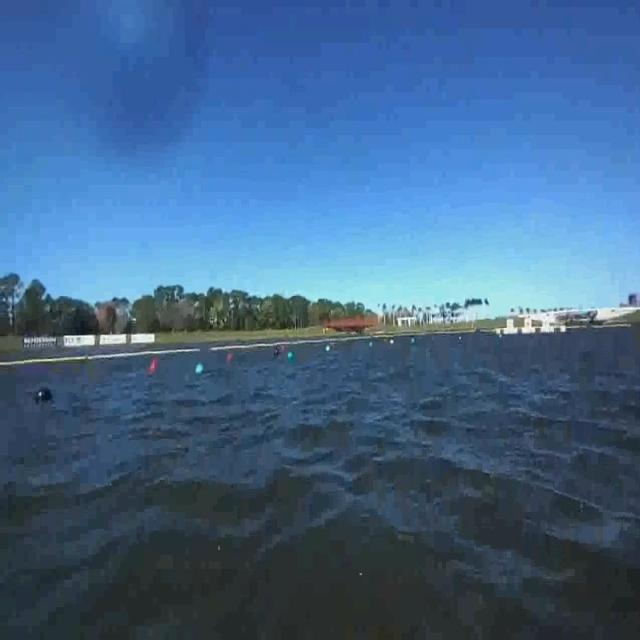black-buoy: (34, 387, 54, 402)
green-buoy: (194, 361, 203, 375), (286, 350, 294, 362)
red-buoy: (148, 358, 159, 372)
